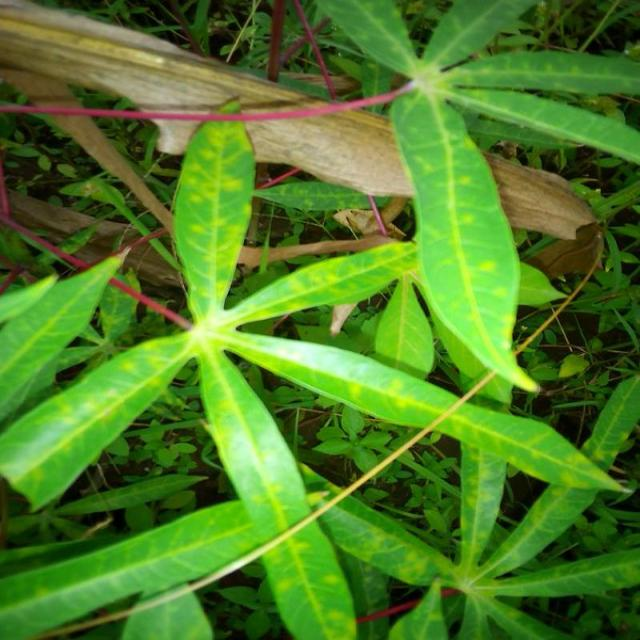cassava leaf: (1, 89, 632, 638), (389, 82, 542, 395), (172, 96, 258, 321)
